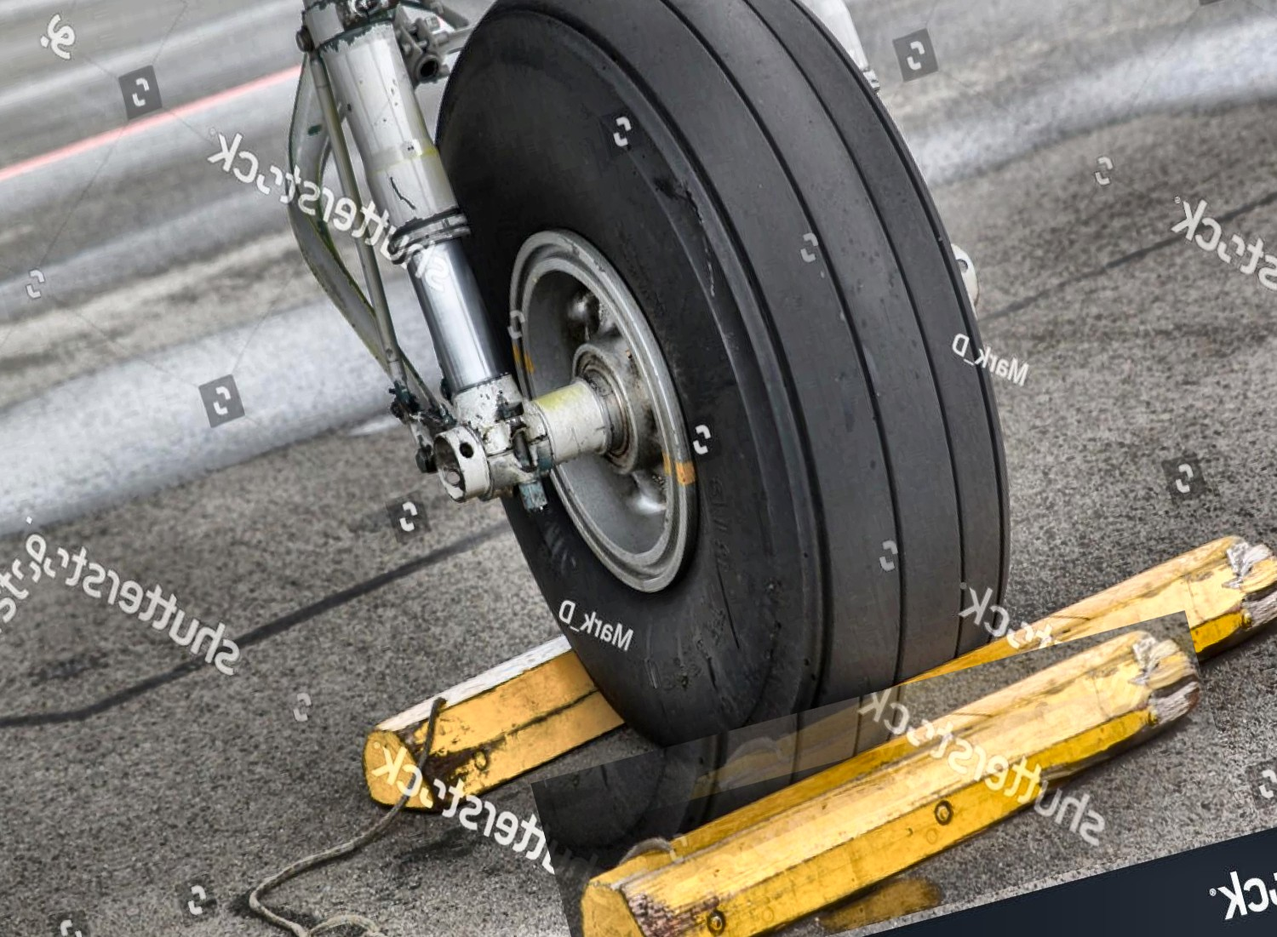chock: (640, 516, 1277, 896), (531, 610, 1242, 937), (634, 690, 1148, 937), (338, 572, 817, 831)
wheel: (393, 0, 1073, 802)
